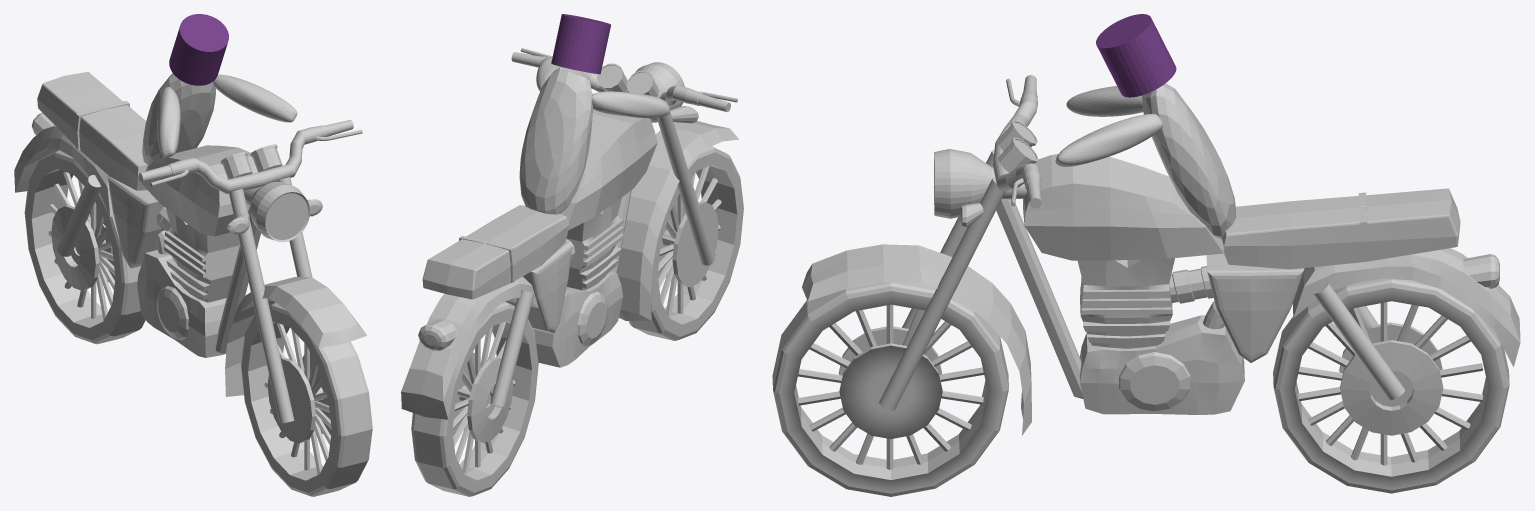
Rendered from bikenemy.obj.
3 views of the same model, side by side, from view 1: azimuth 30°, elevation 25°; view 2: azimuth 150°, elevation 25°; view 3: azimuth 270°, elevation 25° (orthographic). The views are drawn at different scales.
Parts seen in each view (by area): view 1: Front_wheel_Cylinder.001, Rear_wheel_Cylinder.001, Seat_Cube.002, Front_water_Cube.001, Gas_Tank_Cube.001, Engine_1_Cube.001, Engine_2_Cube.001, Front_bumper_left_Cylinder.001, Steering_Cylinder.001, 円柱_円柱.001, 立方体.006, Engine_3_Cube.001 (+13 smaller); view 2: Rear_wheel_Cylinder.001, Front_wheel_Cylinder.001, 立方体.006, Seat_Cube.002, Front_water_Cube.001, Rear_water_Cube.001, Gas_Tank_Cube.001, Engine_2_Cube.001, Engine_1_Cube.001, 円柱_円柱.001, Engine_3_Cube.001, Front_bumper_left_Cylinder.001 (+12 smaller); view 3: Front_wheel_Cylinder.001, Rear_wheel_Cylinder.001, Gas_Tank_Cube.001, Seat_Cube.002, Engine_2_Cube.001, Front_water_Cube.001, Engine_1_Cube.001, Rear_water_Cube.001, 立方体.006, Engine_3_Cube.001, Front_wheel_inside_Cylinder.001, Rear_wheel_inside_Cylinder.001 (+12 smaller).
Boxes of the visible parts, bbox=[...] form: Front_wheel_Cylinder.001: bbox=[241, 303, 372, 496]; Rear_wheel_Cylinder.001: bbox=[24, 150, 145, 344]; Seat_Cube.002: bbox=[37, 72, 147, 190]; Front_water_Cube.001: bbox=[225, 277, 366, 396]; Gas_Tank_Cube.001: bbox=[142, 145, 257, 236]; Engine_1_Cube.001: bbox=[164, 208, 240, 302]; Engine_2_Cube.001: bbox=[137, 250, 226, 357]; Front_bumper_left_Cylinder.001: bbox=[229, 188, 294, 423]; Steering_Cylinder.001: bbox=[138, 120, 353, 193]; 円柱_円柱.001: bbox=[169, 14, 228, 85]; 立方体.006: bbox=[142, 73, 216, 165]; Engine_3_Cube.001: bbox=[107, 175, 163, 268]; Rear_wheel_Cylinder.001: bbox=[411, 302, 538, 496]; Front_wheel_Cylinder.001: bbox=[628, 146, 743, 340]; 立方体.006: bbox=[519, 67, 592, 214]; Seat_Cube.002: bbox=[422, 205, 569, 299]; Front_water_Cube.001: bbox=[617, 121, 738, 320]; Rear_water_Cube.001: bbox=[401, 276, 538, 419]; Gas_Tank_Cube.001: bbox=[560, 109, 657, 230]; Engine_2_Cube.001: bbox=[533, 271, 623, 367]; Engine_1_Cube.001: bbox=[566, 197, 624, 290]; 円柱_円柱.001: bbox=[551, 14, 610, 74]; Engine_3_Cube.001: bbox=[505, 240, 571, 333]; Front_bumper_left_Cylinder.001: bbox=[657, 111, 715, 265]; Front_wheel_Cylinder.001: bbox=[772, 282, 1008, 496]; Rear_wheel_Cylinder.001: bbox=[1273, 278, 1509, 493]; Gas_Tank_Cube.001: bbox=[1023, 154, 1223, 260]; Seat_Cube.002: bbox=[1221, 188, 1460, 269]; Engine_2_Cube.001: bbox=[1079, 315, 1244, 414]; Front_water_Cube.001: bbox=[802, 244, 1031, 435]; Engine_1_Cube.001: bbox=[1077, 258, 1174, 348]; Rear_water_Cube.001: bbox=[1292, 248, 1520, 366]; 立方体.006: bbox=[1142, 83, 1235, 238]; Engine_3_Cube.001: bbox=[1206, 253, 1304, 362]; Front_wheel_inside_Cylinder.001: bbox=[797, 304, 984, 469]; Rear_wheel_inside_Cylinder.001: bbox=[1298, 302, 1482, 465].
Size of the model in its own units: 2.85 by 5.01 by 7.27.
